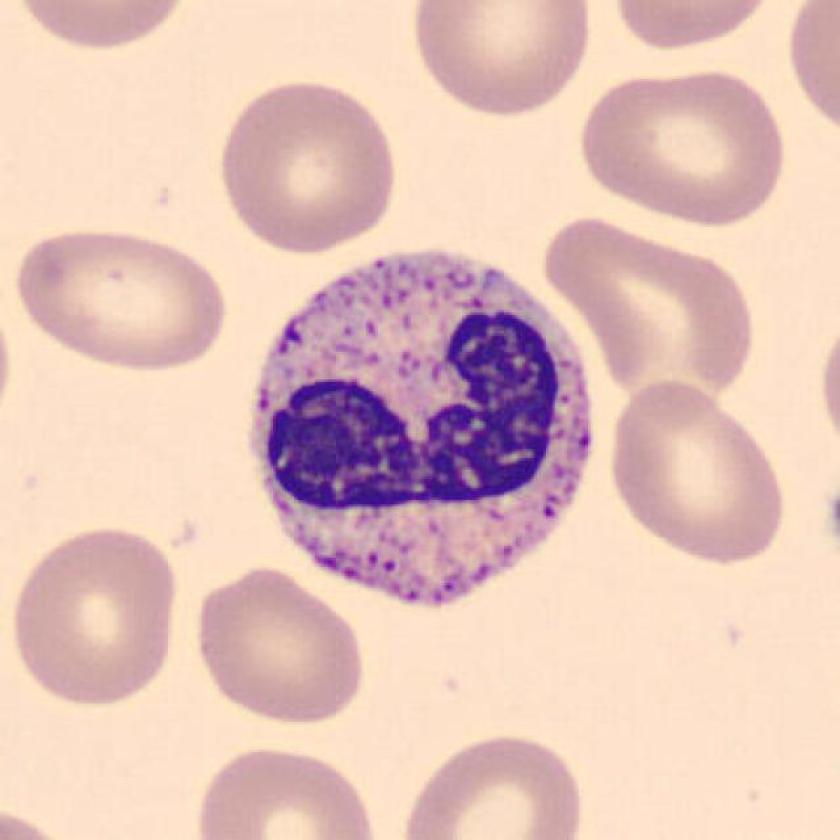neutrophil: (256, 252, 597, 598)
